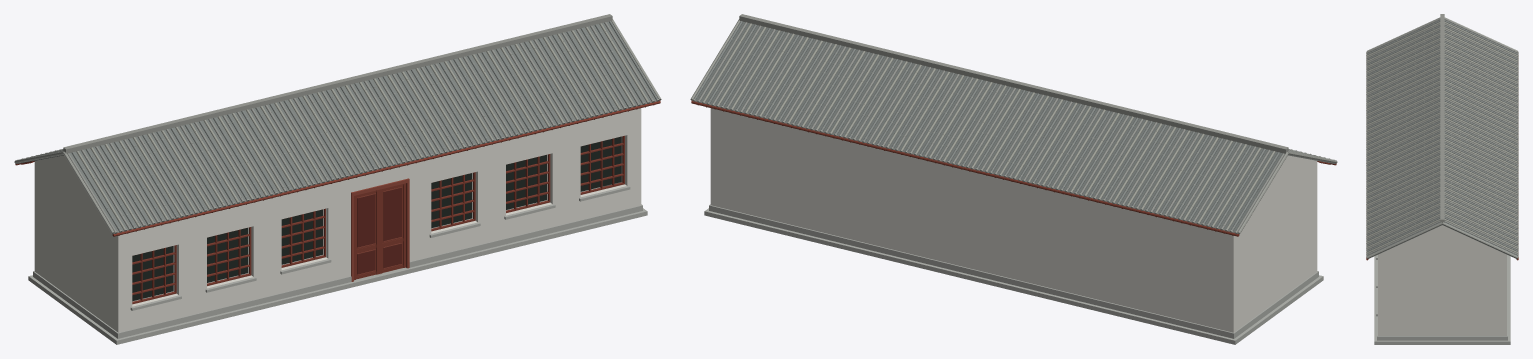
Rendered from chongming-east-wing-web.glb.
3 renders of one model, left to right at view 1: azimuth 30°, elevation 25°; view 2: azimuth 150°, elevation 25°; view 3: azimuth 270°, elevation 25°, orthographic. The views are drawn at different scales.
Size of the model in its own units: 27.69 by 8 by 8.64.
